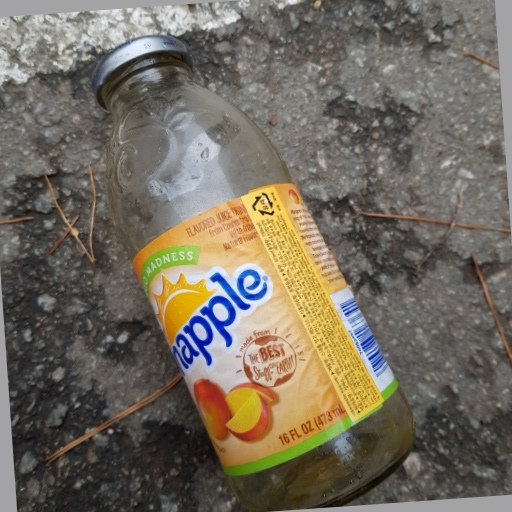Glass_4: (91, 31, 413, 512)
